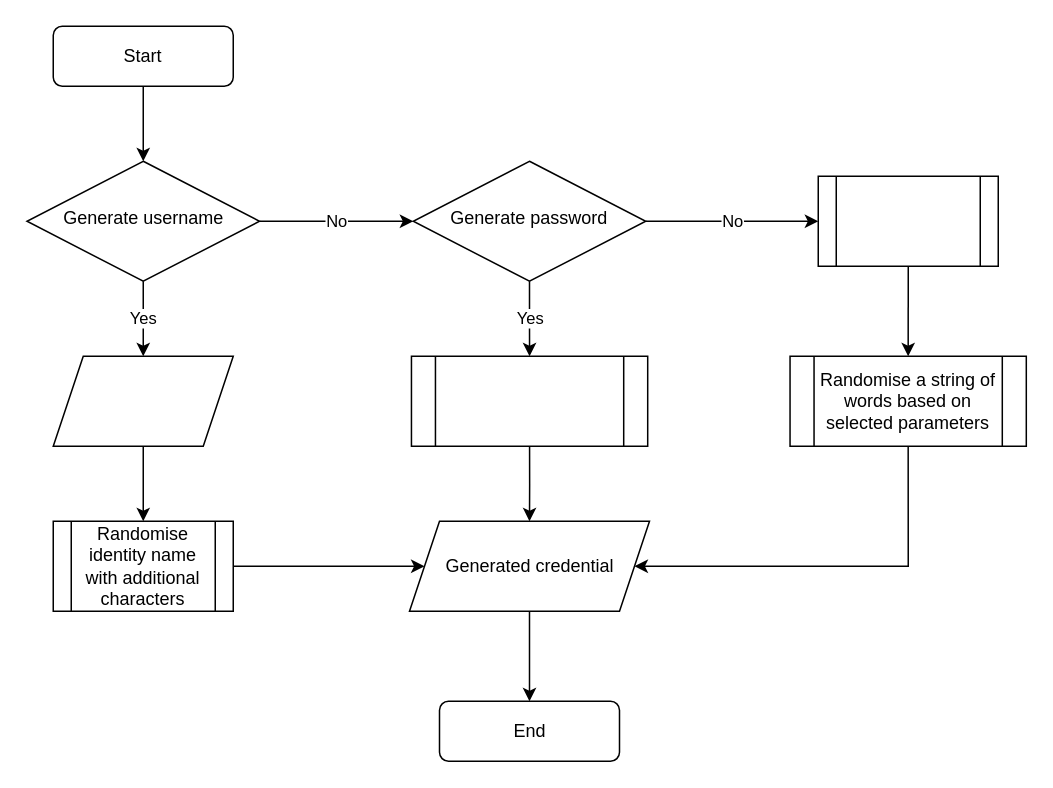
The diagram is 1053 pixels wide and 788 high, and some of its shapes have lost their labels. Here are the shapes that lost their labels. From the top down, the centre of each, then its label:
At point (907, 220): "Generate passphrase".
At point (142, 400): "Identity name".
At point (529, 400): "Randomise a string of characters based on selected parameters".
